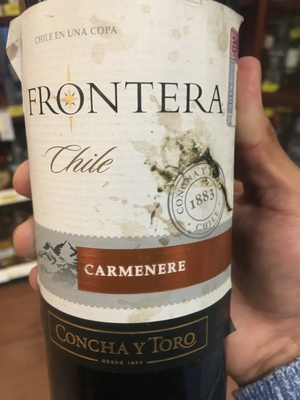frontera carmenere: (16, 1, 238, 400)
